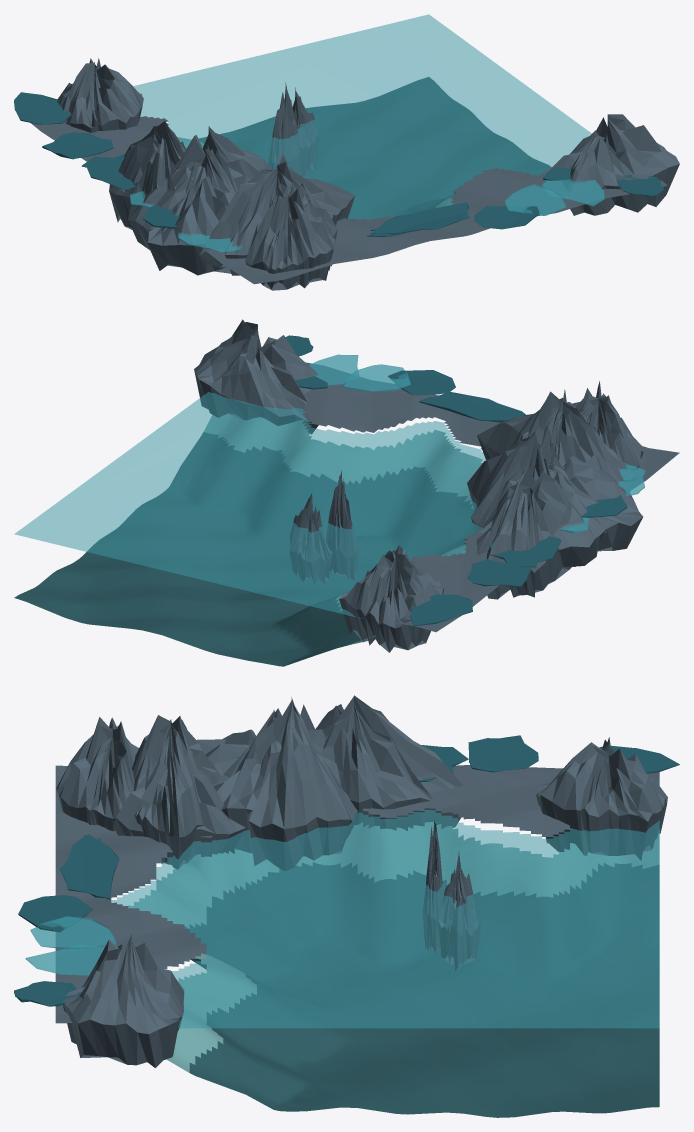
Rendered from water_tile_10.glb.
3 renders of one model, top to bottom at view 1: azimuth 30°, elevation 25°; view 2: azimuth 150°, elevation 25°; view 3: azimuth 270°, elevation 25°, orthographic. The views are drawn at different scales.
Visible parts, largest first — view 1: glacial water surface 10, submerged mineral riverbed.010, single continuous dark slate shoreline.010, angular fractured shoreline ledge.101, angular fractured shoreline ledge.106, angular fractured shoreline ledge.103, angular fractured shoreline ledge.100, angular fractured shoreline ledge.104, angular fractured shoreline ledge.107, angular fractured shoreline ledge.105, erosion water finger above land.125, underwater worn boulder.032 (+11 smaller); view 2: glacial water surface 10, submerged mineral riverbed.010, single continuous dark slate shoreline.010, visible shallow mineral shelves.010, angular fractured shoreline ledge.101, angular fractured shoreline ledge.107, angular fractured shoreline ledge.104, angular fractured shoreline ledge.106, angular fractured shoreline ledge.100, angular fractured shoreline ledge.105, underwater worn boulder.033, angular fractured shoreline ledge.103 (+10 smaller); view 3: submerged mineral riverbed.010, glacial water surface 10, visible shallow mineral shelves.010, single continuous dark slate shoreline.010, angular fractured shoreline ledge.105, angular fractured shoreline ledge.101, angular fractured shoreline ledge.107, angular fractured shoreline ledge.104, angular fractured shoreline ledge.100, angular fractured shoreline ledge.103, angular fractured shoreline ledge.106, angular fractured shoreline ledge.102 (+9 smaller).
Part boxes in pixels (x1,y1,x2,y2): glacial water surface 10: (133,14,591,219); submerged mineral riverbed.010: (198,77,551,219); single continuous dark slate shoreline.010: (31,116,667,284); angular fractured shoreline ledge.101: (538,114,679,215); angular fractured shoreline ledge.106: (128,148,250,275); angular fractured shoreline ledge.103: (245,183,335,290); angular fractured shoreline ledge.100: (199,152,354,275); angular fractured shoreline ledge.104: (57,58,143,132); angular fractured shoreline ledge.107: (109,121,186,229); angular fractured shoreline ledge.105: (166,126,271,215); erosion water finger above land.125: (371,202,469,234); underwater worn boulder.032: (268,82,300,173); glacial water surface 10: (14,392,486,618); submerged mineral riverbed.010: (14,432,475,666); single continuous dark slate shoreline.010: (302,362,679,632); visible shallow mineral shelves.010: (204,413,482,644); angular fractured shoreline ledge.101: (194,319,324,434); angular fractured shoreline ledge.107: (476,462,573,599); angular fractured shoreline ledge.104: (339,545,444,652); angular fractured shoreline ledge.106: (486,443,642,566); angular fractured shoreline ledge.100: (477,389,636,492); angular fractured shoreline ledge.105: (467,431,605,566); underwater worn boulder.033: (289,493,332,584); angular fractured shoreline ledge.103: (572,381,644,470); submerged mineral riverbed.010: (184,862,659,1117); glacial water surface 10: (111,810,659,1028); visible shallow mineral shelves.010: (128,822,659,1072); single continuous dark slate shoreline.010: (55,765,659,1023); angular fractured shoreline ledge.105: (235,697,357,871); angular fractured shoreline ledge.101: (63,934,184,1067); angular fractured shoreline ledge.107: (315,695,462,830); angular fractured shoreline ledge.104: (536,737,667,860); angular fractured shoreline ledge.100: (132,715,221,869); angular fractured shoreline ledge.103: (56,717,138,831); angular fractured shoreline ledge.106: (196,710,349,853); angular fractured shoreline ledge.102: (114,759,245,864).
Size of the model in its own units: 1.15 by 0.3584 by 1.1.
